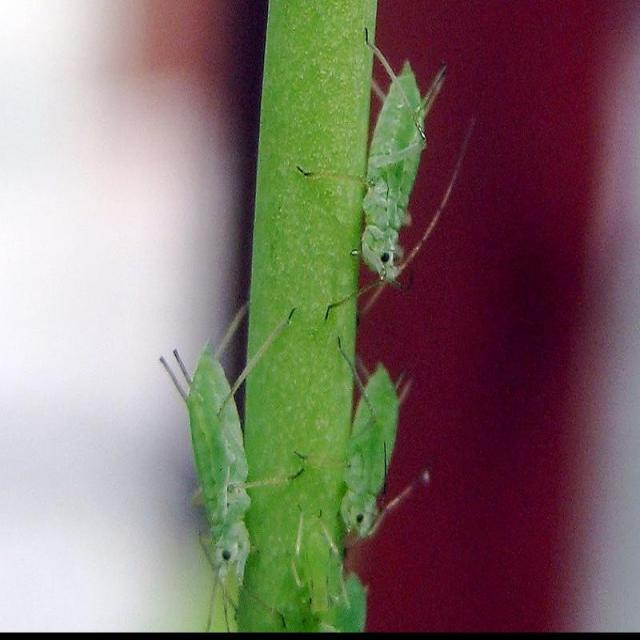aphid: (166, 342, 268, 602), (355, 31, 428, 298), (341, 354, 411, 550)
